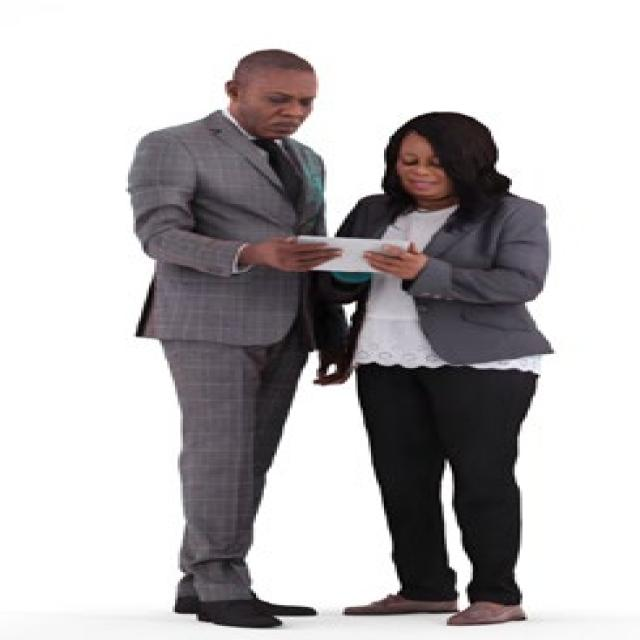standing: (124, 44, 330, 630), (330, 107, 556, 626)
